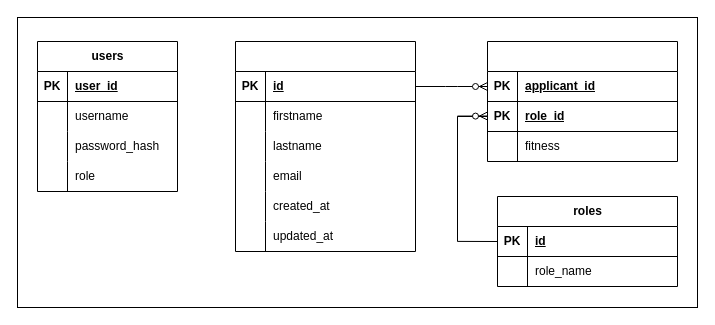
Image size: 715x325. Some labels were removed from this diagram. The shapes that lost their labels are listed below. From the top down, each one's box as (x1, y1, x2, y2) in pixels, then its label:
(486, 40, 678, 162): applicant_role
(234, 40, 416, 252): applicant
